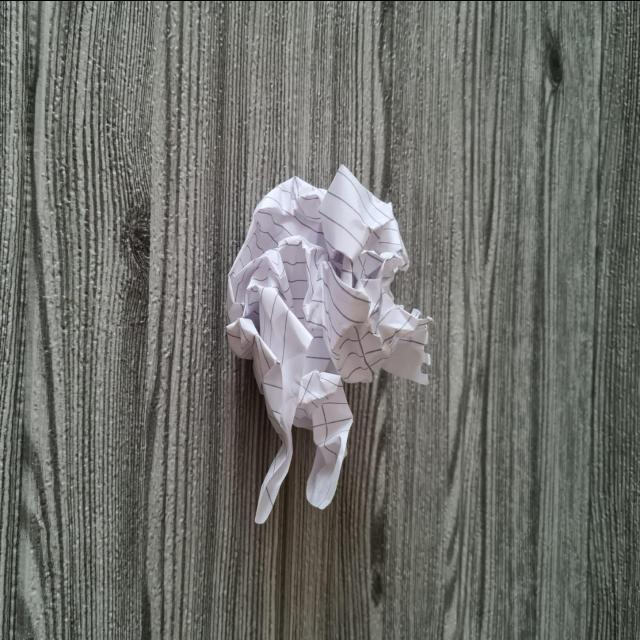kertas: (232, 168, 430, 532)
